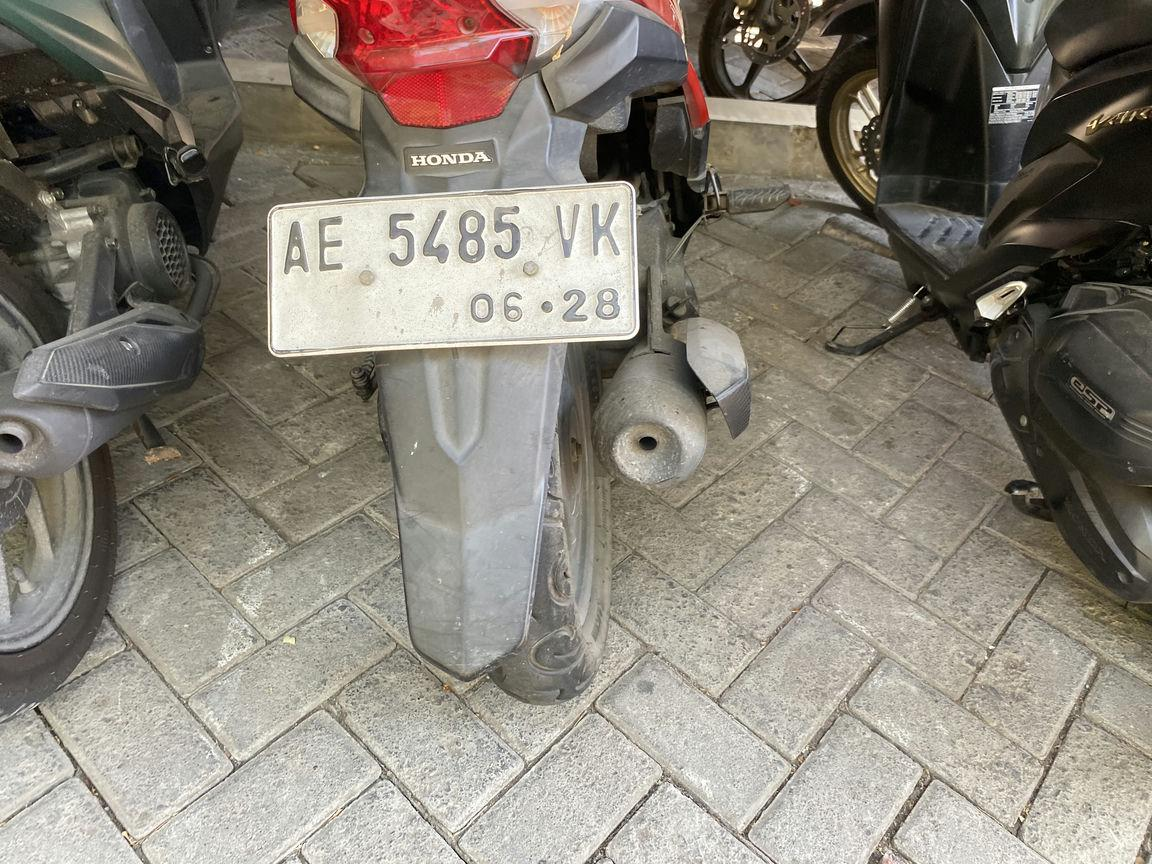plat: (268, 182, 639, 356)
